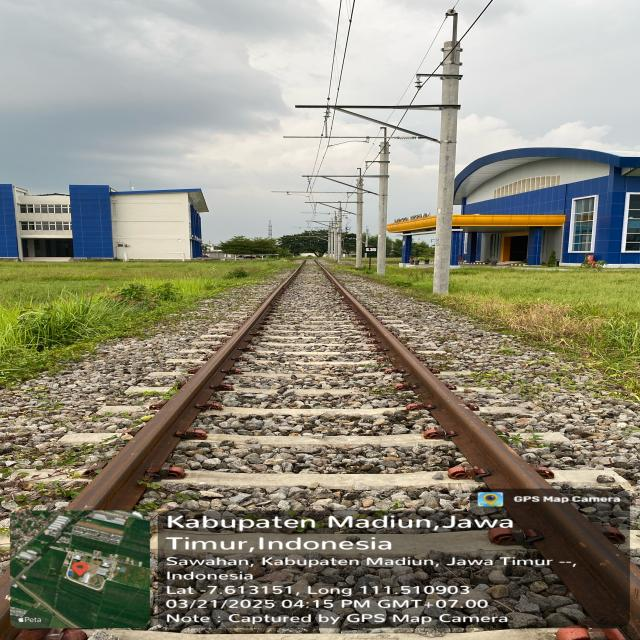rail-detection: (315, 259, 640, 625), (66, 258, 305, 510)
